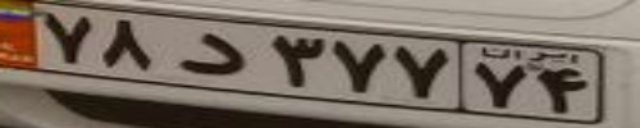3: (267, 33, 324, 88)
4: (536, 67, 587, 114)
7: (393, 44, 451, 98), (330, 39, 386, 92), (474, 61, 527, 109), (42, 12, 90, 64)
8: (98, 18, 148, 69)
dal: (176, 32, 244, 76)
